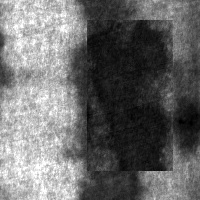patches: (65, 29, 143, 199), (87, 20, 173, 171), (68, 1, 139, 34), (168, 91, 200, 157), (1, 54, 15, 89)
